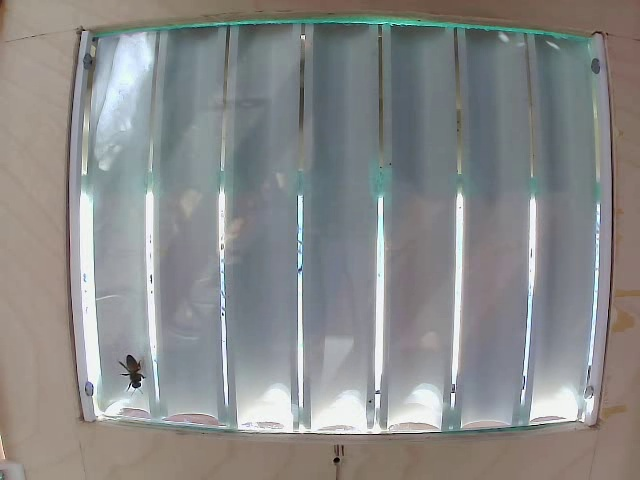bee: (111, 349, 147, 394)
